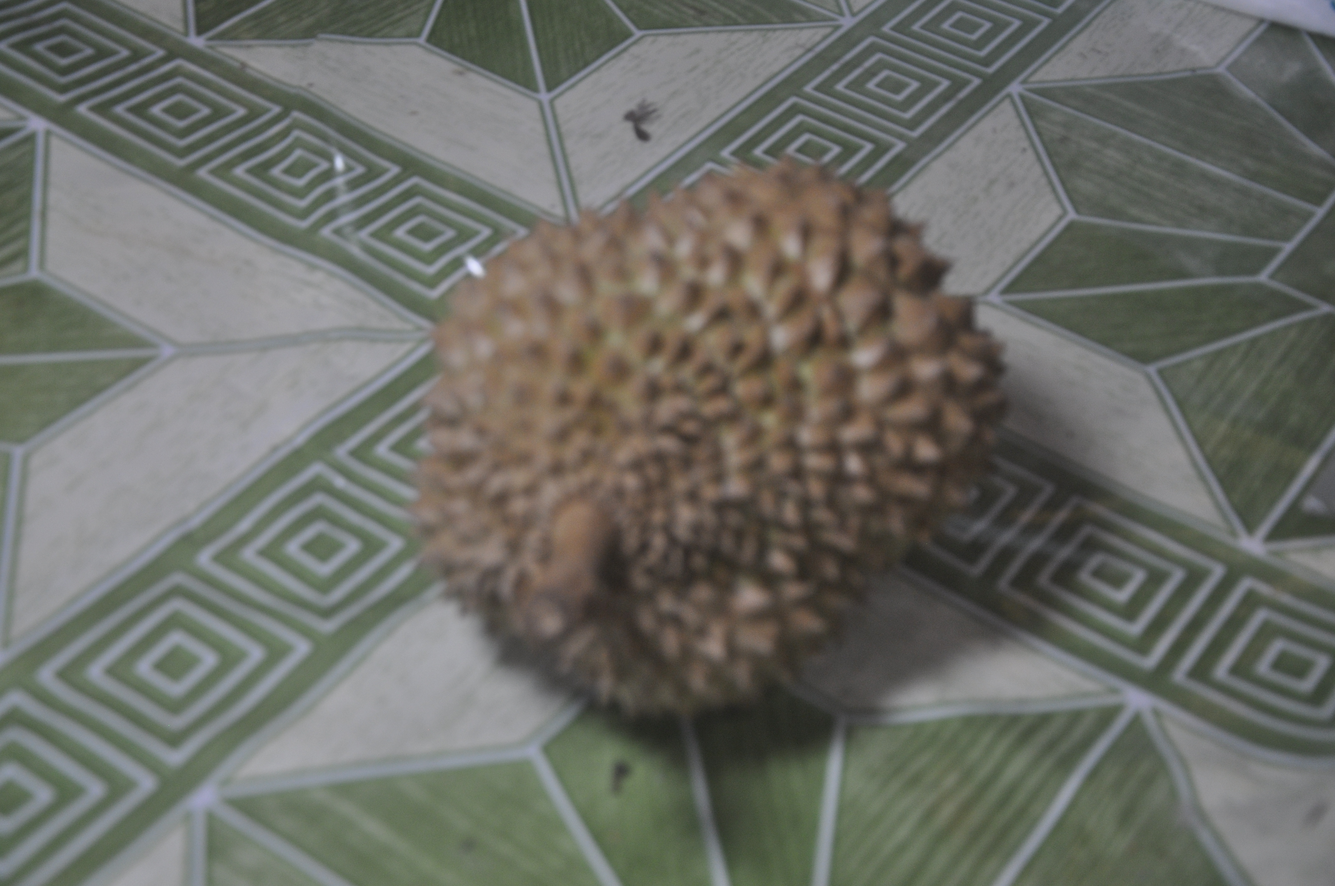mature: (413, 160, 1005, 713)
